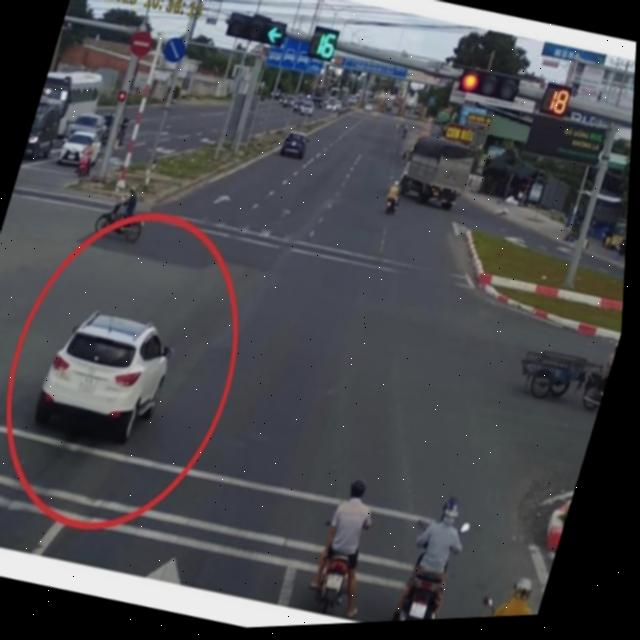Green: (222, 9, 290, 55)
Red: (456, 65, 523, 110)
